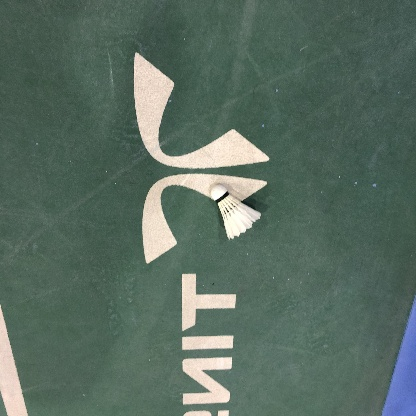ball_single: (211, 185, 261, 240)
